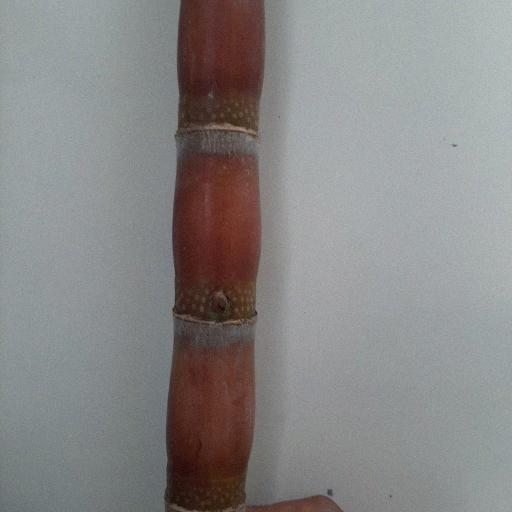Bud: (208, 289, 230, 318)
